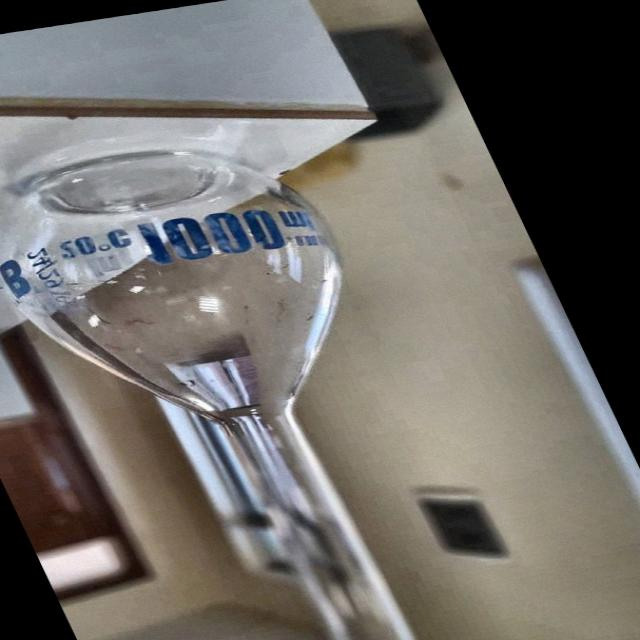Volumetric flask: (0, 135, 565, 640)
